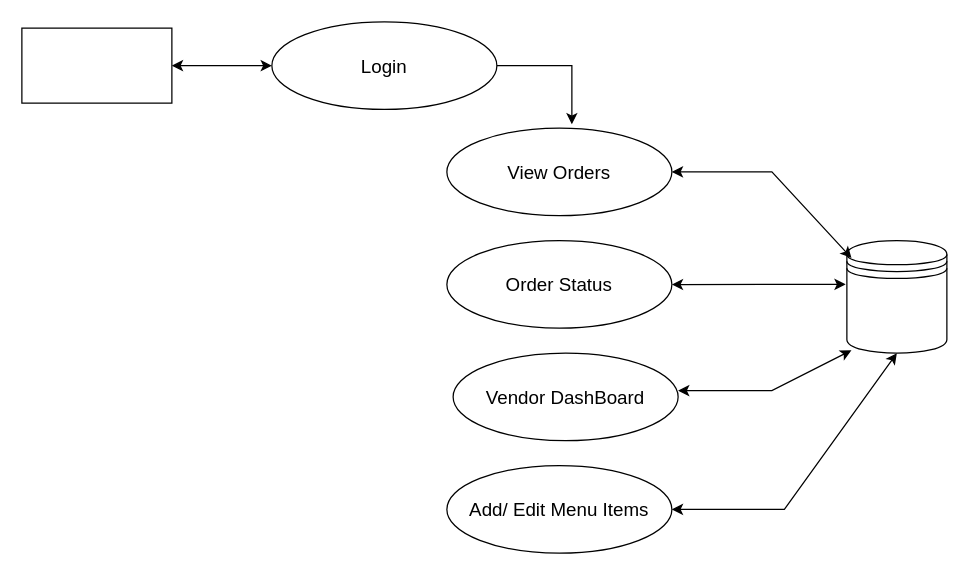
Some shapes in this 969 by 575 pixel diagram are drawn without their labels. The centre of each missing label's shape, as x and y in pixels:
"Vendor Database" goes at (x=896, y=296).
"Vendors" goes at (x=96, y=65).
